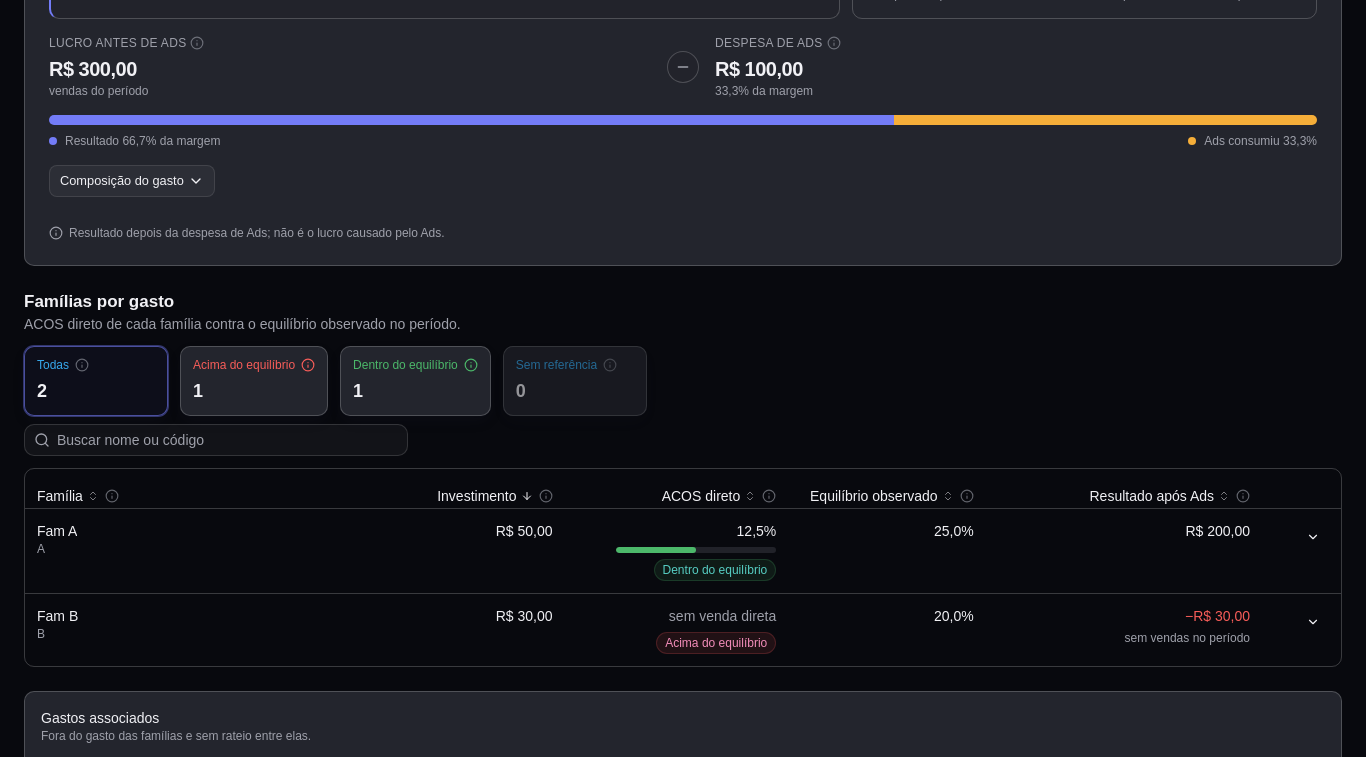
Ads › os cartões de contagem filtram sem alterar gastos associados
This screenshot has width=1366, height=757.
(page scrolled)
Click the button with aria-label "Filtrar por Acima do equilíbrio": x=254, y=381 [180, 346, 328, 416]
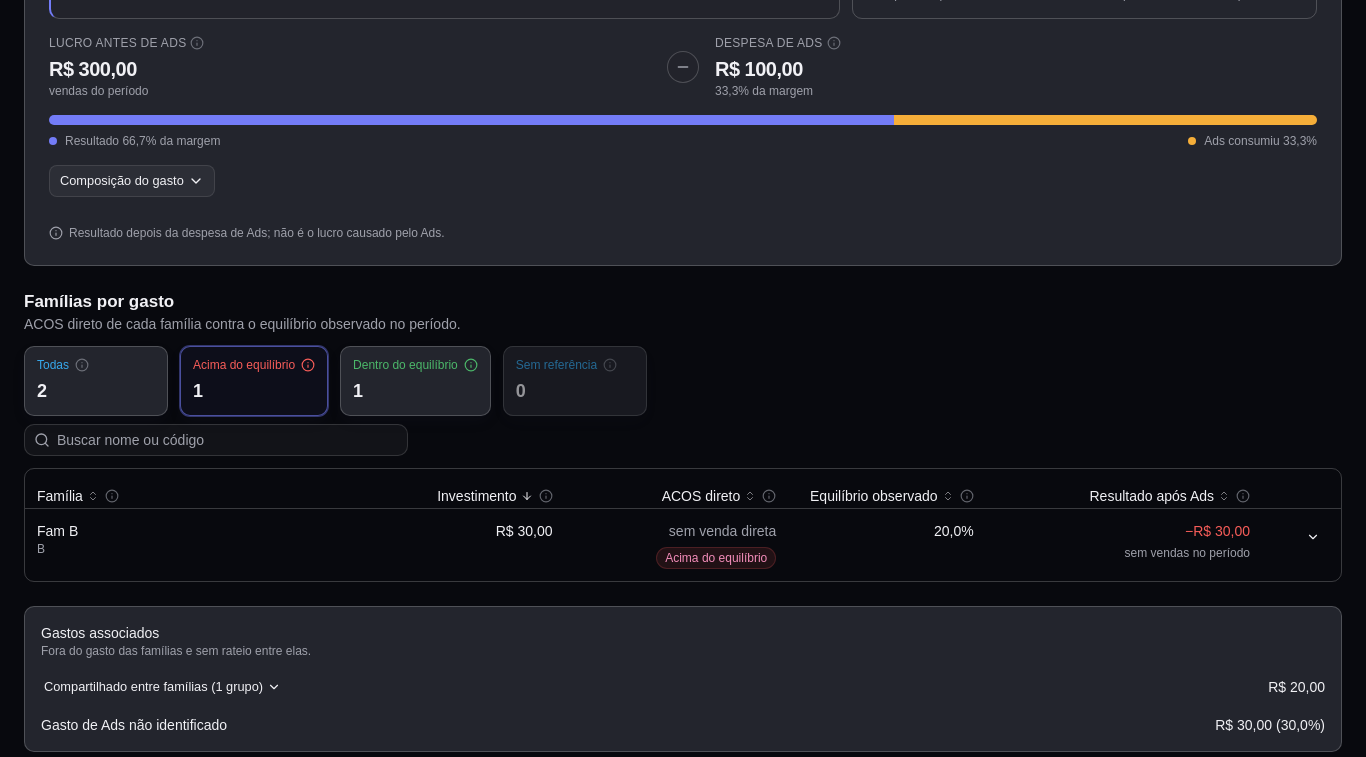
Expected: the row "Fam B" is shown, [25, 509, 1341, 581]
Now the link "Fam A" is gone
